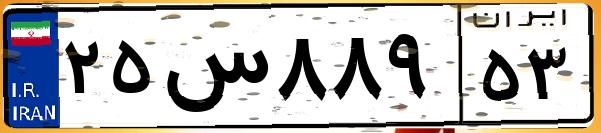2: (57, 26, 110, 100)
3: (525, 38, 570, 115)
5: (475, 38, 525, 113), (110, 28, 158, 98)
8: (270, 28, 330, 110), (330, 28, 385, 110)
9: (385, 28, 445, 110)
س: (158, 20, 270, 120)
